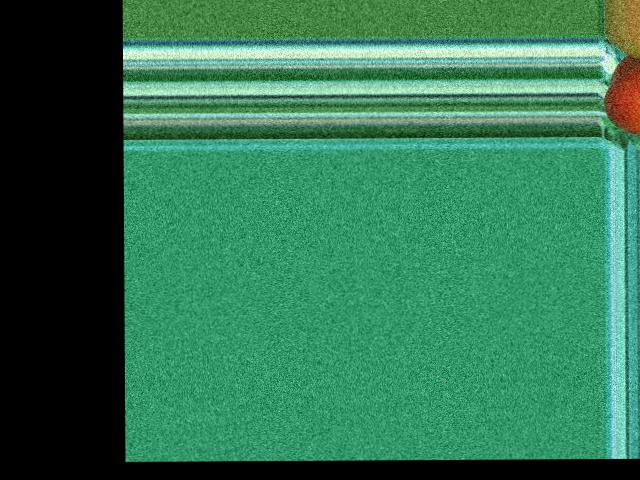tomato: (604, 58, 640, 136)
